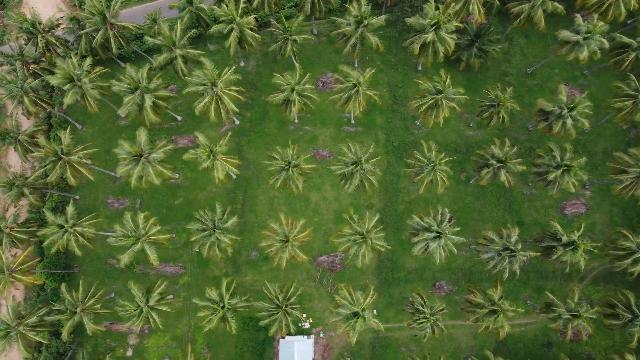trees: (109, 64, 184, 129), (45, 280, 121, 344), (71, 2, 149, 64), (29, 128, 103, 190), (143, 12, 210, 80), (182, 60, 248, 127), (44, 53, 113, 115), (113, 128, 181, 190), (110, 279, 182, 337), (7, 6, 74, 68), (38, 199, 107, 259), (106, 211, 177, 269), (462, 281, 529, 342), (402, 4, 463, 71), (532, 220, 604, 275), (329, 2, 389, 68), (471, 225, 541, 281), (326, 286, 387, 349), (407, 206, 470, 266), (2, 60, 59, 126), (407, 70, 469, 130), (536, 289, 602, 345), (332, 209, 393, 269), (193, 279, 255, 338), (1, 295, 57, 359), (528, 144, 592, 199), (185, 204, 244, 262), (208, 3, 265, 63), (531, 87, 596, 139), (327, 66, 386, 123), (259, 213, 316, 270), (255, 282, 311, 340), (183, 133, 243, 187), (268, 67, 323, 124), (264, 141, 321, 196), (328, 142, 386, 196), (450, 21, 508, 74), (468, 139, 528, 190), (554, 16, 613, 67), (405, 142, 460, 196), (266, 11, 317, 67), (2, 110, 49, 169), (402, 290, 451, 345), (473, 83, 523, 130), (2, 244, 47, 295), (1, 163, 45, 213), (2, 202, 45, 249), (504, 2, 566, 33), (605, 148, 640, 200), (607, 75, 640, 127)
